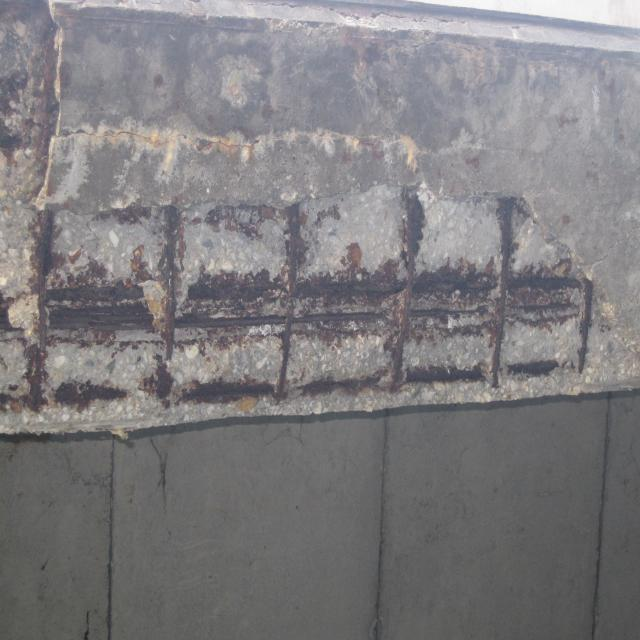corrosion: (138, 0, 480, 640)
